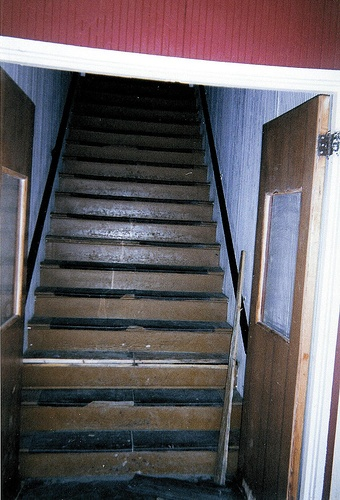stairs_up: (21, 124, 238, 484)
